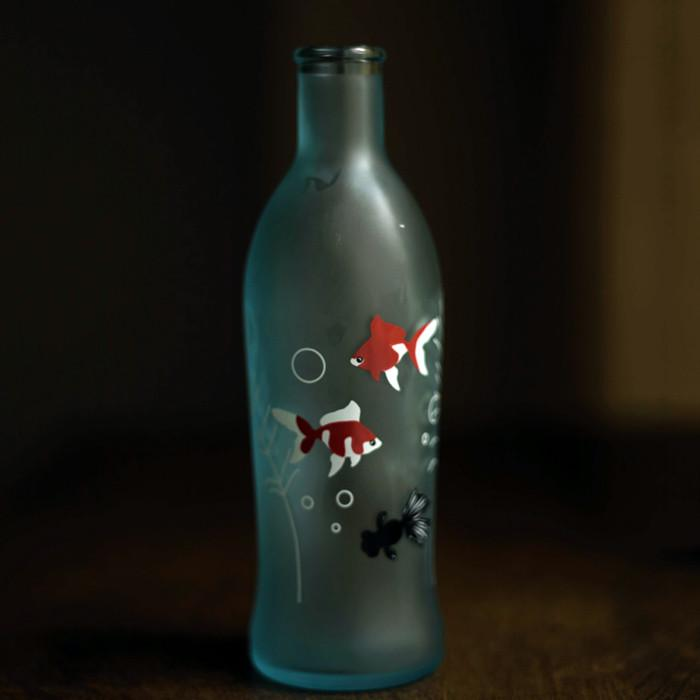bottle: (242, 43, 447, 692)
